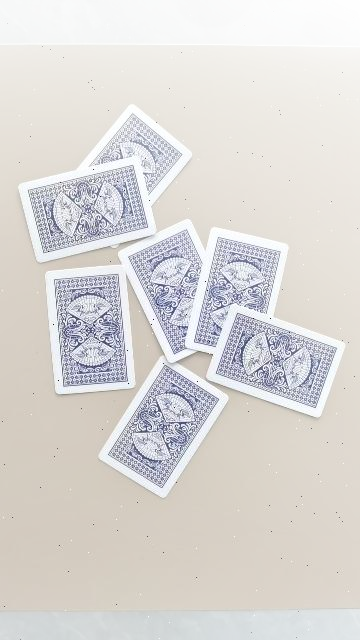card: (99, 358, 228, 498), (207, 305, 345, 417), (19, 158, 155, 262), (185, 228, 289, 354), (119, 220, 205, 362), (46, 266, 135, 394), (79, 105, 191, 203)
